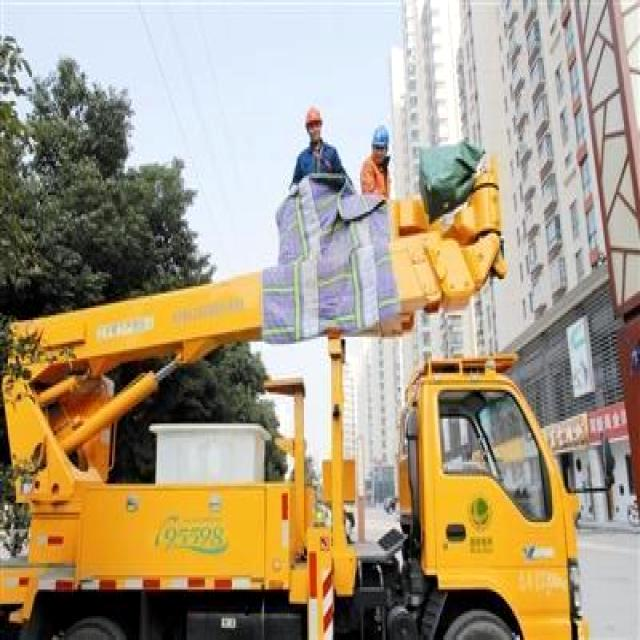hard_hat: (304, 106, 322, 130), (371, 125, 389, 147)
person: (290, 106, 350, 190), (360, 125, 389, 195)
